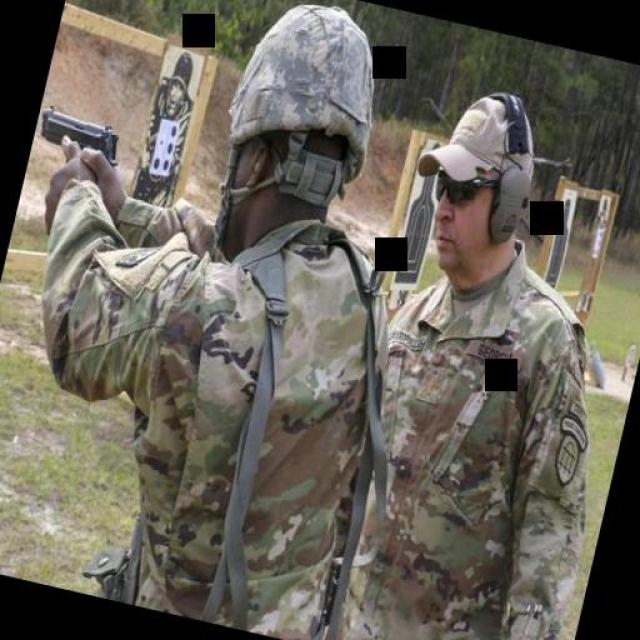gun: (29, 98, 126, 182)
